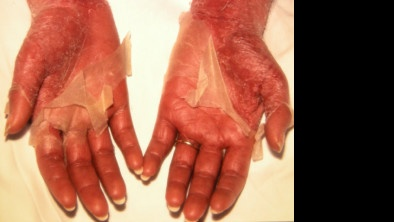SJS-TEN: (130, 0, 319, 222), (0, 0, 146, 222)
